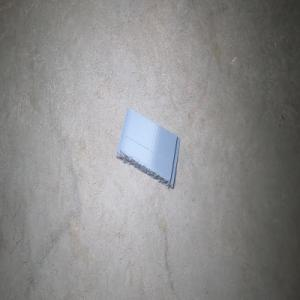PlasticPart: (115, 107, 180, 189)
